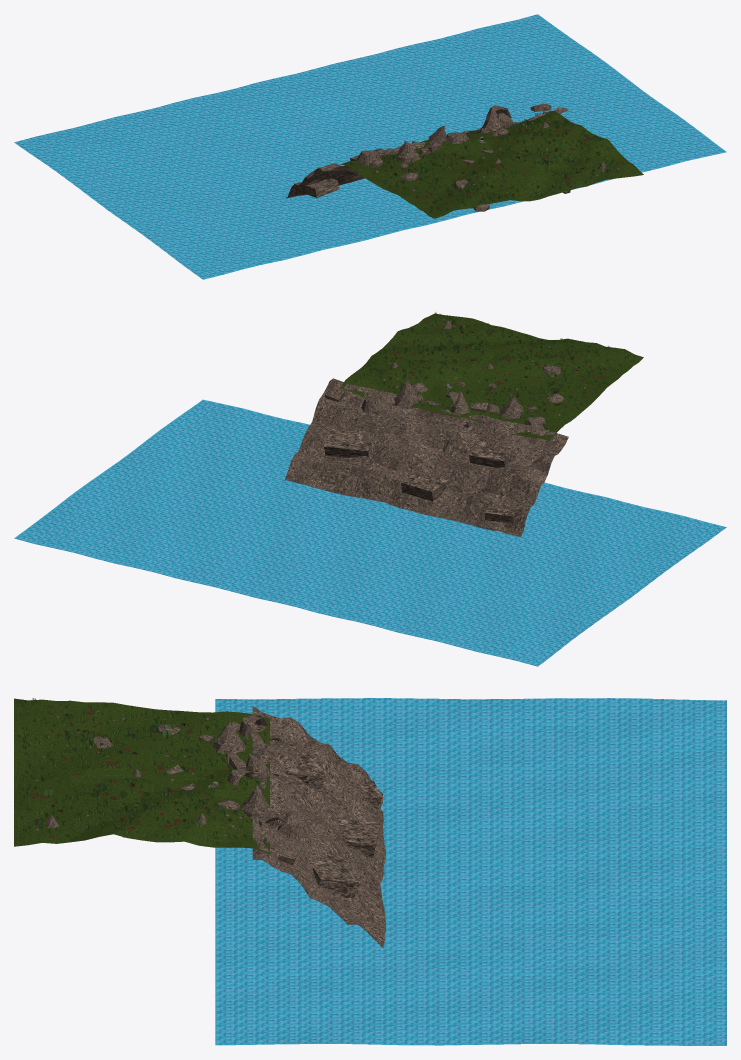
File: wind.glb
3 renders of one model, top to bottom at view 1: azimuth 30°, elevation 25°; view 2: azimuth 150°, elevation 25°; view 3: azimuth 270°, elevation 25°, orthographic. The views are drawn at different scales.
Visible parts, largest first — view 1: Ocean, Terrain, Cliff_Face, Slab_E; view 2: Ocean, Cliff_Face, Terrain, Slab_C, Slab_D, Slab_A; view 3: Ocean, Terrain, Cliff_Face, Slab_C, Slab_D, Slab_A, Rock_F_49, Rock_C_37.
Boxes of the visible parts, x1,y1,x2,y2 form: Ocean: (14, 14, 726, 279); Terrain: (340, 111, 643, 218); Cliff_Face: (285, 107, 568, 198); Slab_E: (301, 178, 339, 197); Ocean: (14, 399, 726, 666); Cliff_Face: (285, 378, 568, 536); Terrain: (340, 313, 643, 441); Slab_C: (324, 428, 370, 457); Slab_D: (401, 473, 450, 501); Slab_A: (469, 439, 508, 467); Ocean: (215, 698, 726, 1045); Terrain: (14, 698, 269, 854); Cliff_Face: (252, 706, 385, 948); Slab_C: (312, 856, 360, 898); Slab_D: (336, 819, 380, 857); Slab_A: (284, 753, 325, 789); Rock_F_49: (213, 721, 245, 753); Rock_C_37: (241, 784, 271, 818).
Bounding box in the file's own units: 80 × 12.81 × 69.66.
8 materials, 8 textured.
